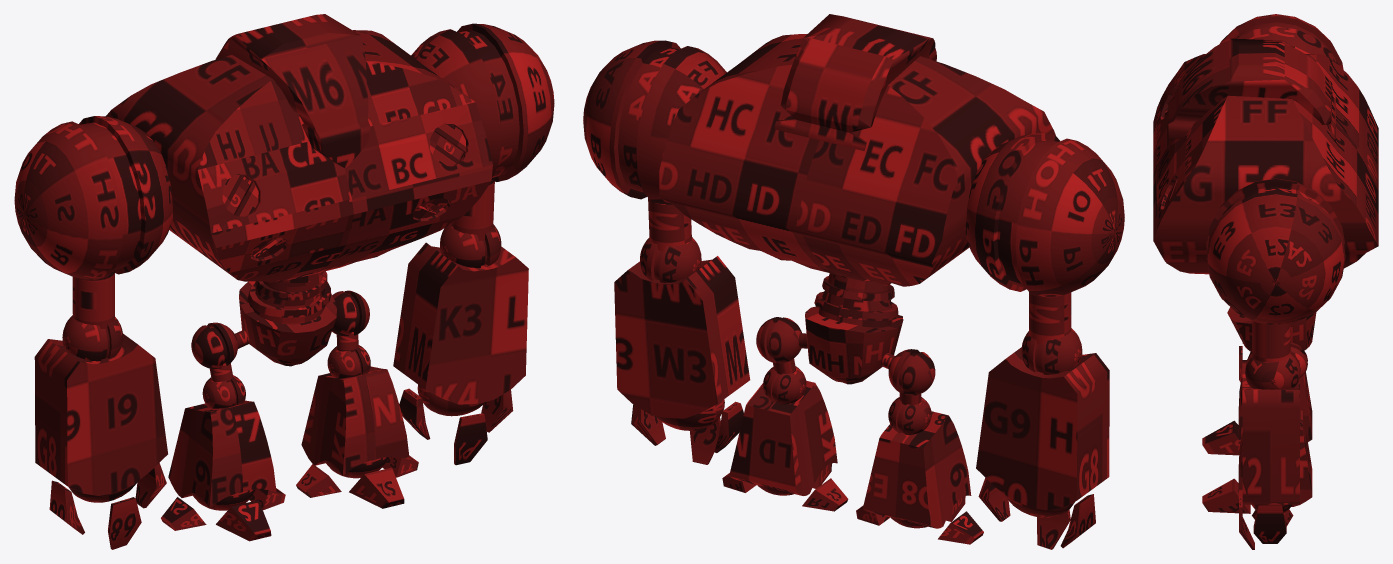
Rendered from final uv map robot.fbx.
3 renders of one model, left to right at view 1: azimuth 30°, elevation 25°; view 2: azimuth 150°, elevation 25°; view 3: azimuth 270°, elevation 25°, orthographic. The views are drawn at different scales.
Parts seen in each view (by area): view 1: UpperTorso, R_Shoulder, L_Forearm, R_Forearm, Head, L_Shoulder, R_Calf, L_Calf, Pelvis, Abs, R_Elbow, R_Bicep (+17 smaller); view 2: UpperTorso, R_Shoulder, L_Forearm, R_Forearm, L_Shoulder, Head, R_Calf, L_Calf, Pelvis, Abs, L_Elbow, R_Elbow (+15 smaller); view 3: UpperTorso, L_Shoulder, Head, L_Forearm, R_Shoulder, L_Elbow, L_Bicep, Pelvis, L_Calf, L_LeftFinger, L_FrontToe, R_FrontToe (+3 smaller).
Boxes of the visible parts, x1,y1,x2,y2 form: UpperTorso: (106, 30, 492, 282); R_Shoulder: (14, 116, 172, 279); L_Forearm: (393, 242, 528, 404); R_Forearm: (34, 333, 167, 495); Head: (215, 14, 370, 168); L_Shoulder: (411, 23, 554, 181); R_Calf: (168, 400, 276, 508); L_Calf: (301, 366, 409, 475); Pelvis: (239, 281, 336, 366); Abs: (247, 262, 331, 324); R_Elbow: (62, 315, 122, 361); R_Bicep: (72, 270, 114, 328); UpperTorso: (659, 34, 1055, 286); R_Shoulder: (965, 133, 1124, 297); L_Forearm: (614, 256, 750, 418); R_Forearm: (976, 347, 1109, 510); L_Shoulder: (583, 40, 726, 204); Head: (774, 14, 936, 151); R_Calf: (862, 411, 971, 528); L_Calf: (729, 380, 837, 495); Pelvis: (805, 306, 903, 384); Abs: (814, 273, 898, 327); L_Elbow: (640, 237, 701, 282); R_Elbow: (1021, 328, 1082, 374); UpperTorso: (1153, 54, 1378, 274); L_Shoulder: (1206, 178, 1345, 325); Head: (1168, 38, 1335, 145); L_Forearm: (1242, 360, 1299, 504); R_Shoulder: (1220, 14, 1343, 69); L_Elbow: (1245, 351, 1300, 389); L_Bicep: (1252, 320, 1290, 362); Pelvis: (1227, 307, 1316, 352); L_Calf: (1238, 410, 1312, 506); L_LeftFinger: (1253, 505, 1286, 543); L_FrontToe: (1202, 478, 1250, 513); R_FrontToe: (1202, 420, 1240, 455).
Bounding box in the file's own units: 4.58 × 3.99 × 1.93.
Materials: 1 (1 with a texture image).
